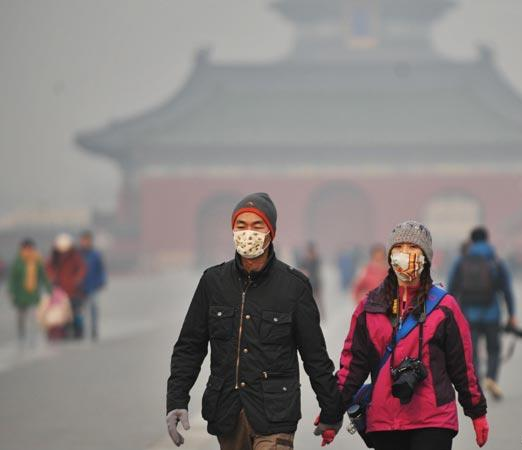person: (163, 189, 341, 448), (317, 221, 490, 450), (434, 221, 517, 402), (7, 237, 53, 350), (43, 231, 86, 344), (352, 241, 394, 345), (71, 227, 108, 342)
